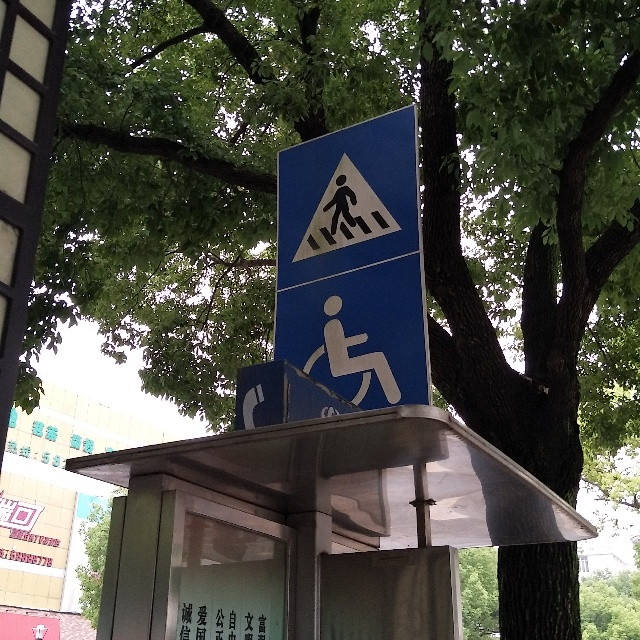crosswalk: (283, 147, 417, 261)
